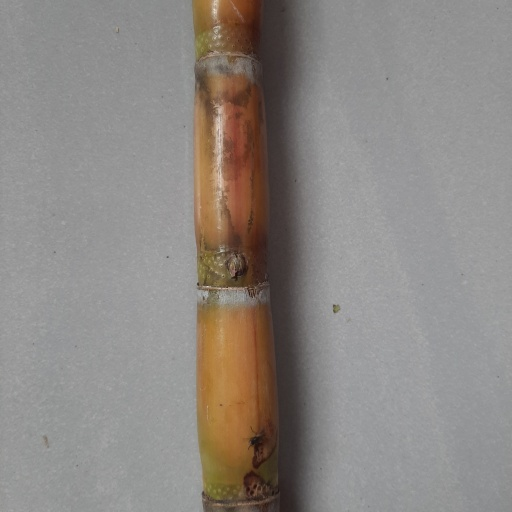Bud: (222, 252, 248, 281)
